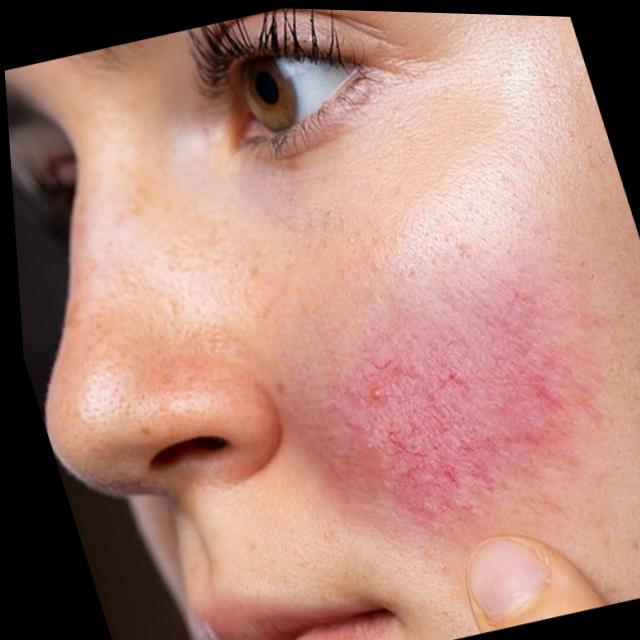skinredness: (241, 235, 628, 586)
vascular: (339, 325, 497, 501)
